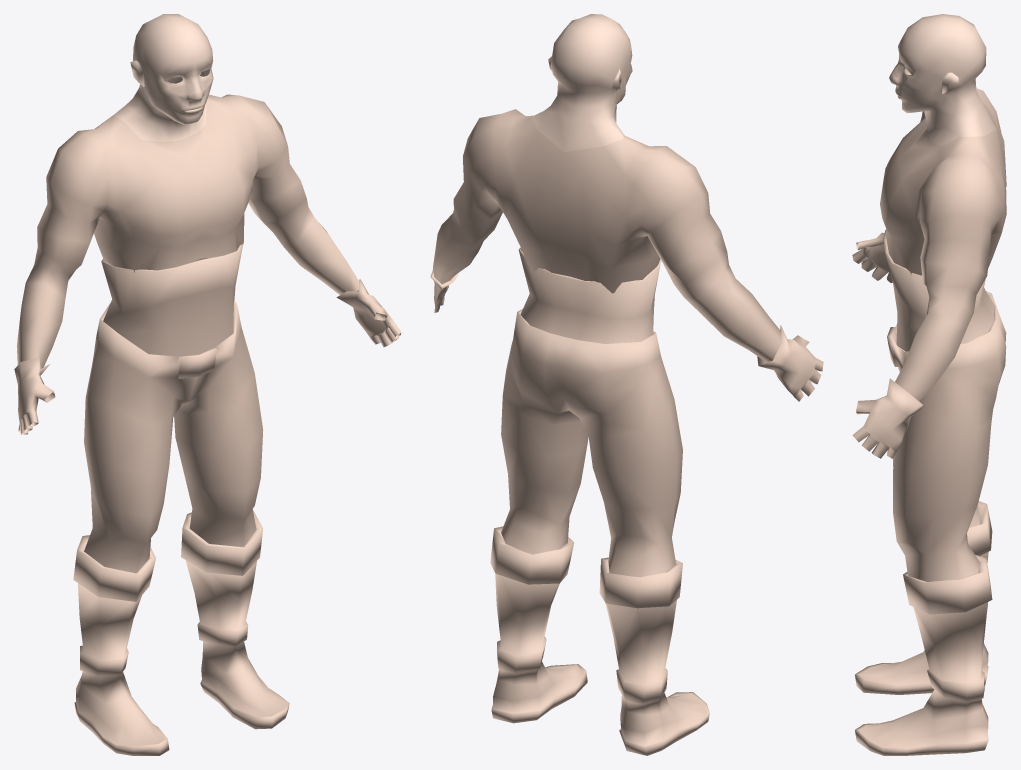
File: character1.glb
3 views of the same model, side by side, from view 1: azimuth 30°, elevation 25°; view 2: azimuth 150°, elevation 25°; view 3: azimuth 270°, elevation 25° (orthographic).
Parts seen in each view (by area): view 1: corps.002, corps.007; view 2: corps.002, corps.007; view 3: corps.002, corps.007.
Boxes of the visible parts, x1,y1,x2,y2 form: corps.002: (14, 244, 401, 755); corps.007: (16, 14, 359, 368); corps.002: (430, 247, 823, 755); corps.007: (433, 14, 781, 362); corps.002: (852, 229, 1006, 755); corps.007: (880, 14, 1006, 401).
Size of the model in its own units: 2.55 by 4.53 by 0.9097.
